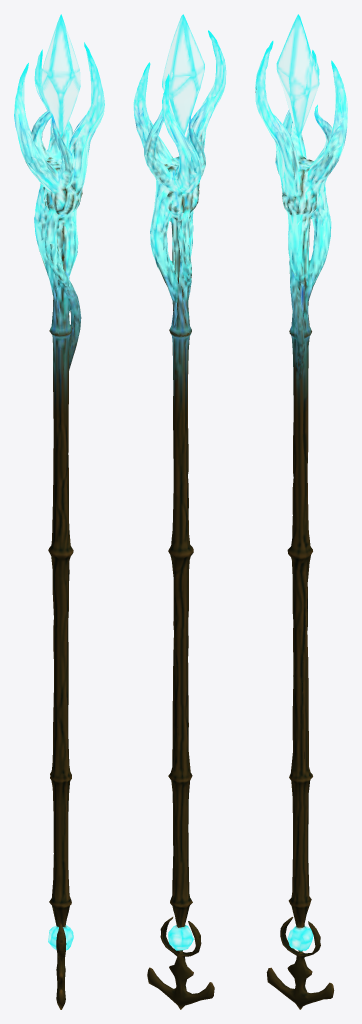
Rendered from Wand.fbx.
The picture shows the model from 3 angles, left to right: view 1: azimuth 90°, elevation 25°; view 2: azimuth 150°, elevation 25°; view 3: azimuth 330°, elevation 25°; orthographic projection.
Visible parts, largest first — view 1: Wand_FInish; view 2: Wand_FInish; view 3: Wand_FInish.
Boxes of the visible parts, x1,y1,x2,y2 form: Wand_FInish: (14,14,104,1009); Wand_FInish: (133,14,226,1009); Wand_FInish: (255,14,347,1009).
Size of the model in its own units: 37.27 by 473 by 39.05.
